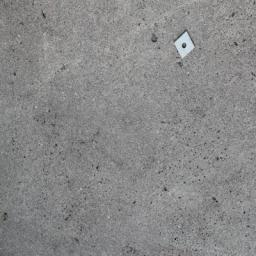FOD: (172, 28, 198, 64)
